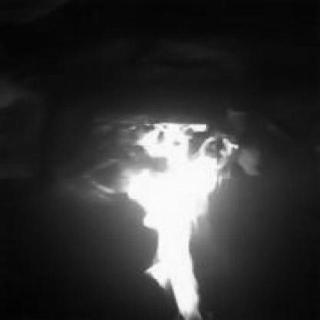Fire: (126, 120, 250, 319)
